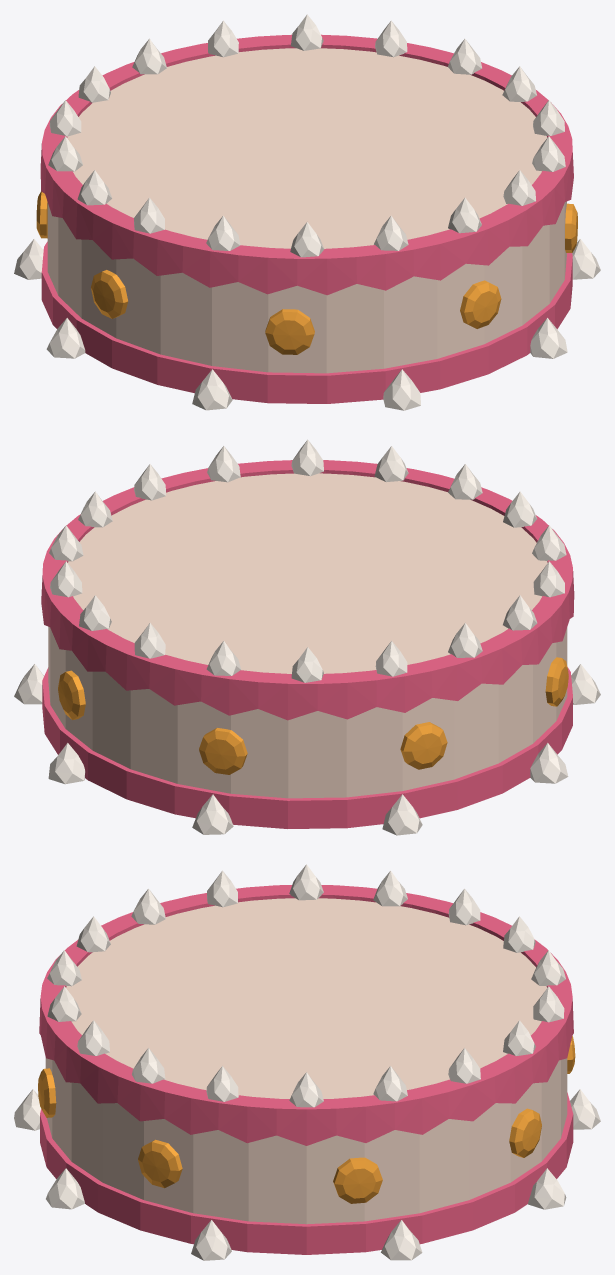
The model's file is CV3_CakeBase.fbx.
The picture shows the model from 3 angles, top to bottom: view 1: azimuth 30°, elevation 25°; view 2: azimuth 150°, elevation 25°; view 3: azimuth 270°, elevation 25°; orthographic projection.
Parts seen in each view (by area): view 1: CV3_CakeBase_Body, CV3_CakeBase_Band, CV3_CakeBase_Frosting, CV3_CakeBase_Cookies; view 2: CV3_CakeBase_Body, CV3_CakeBase_Band, CV3_CakeBase_Frosting, CV3_CakeBase_Cookies; view 3: CV3_CakeBase_Body, CV3_CakeBase_Band, CV3_CakeBase_Frosting, CV3_CakeBase_Cookies.
Part boxes in pixels (bbox=[...]): CV3_CakeBase_Body: bbox=[47, 48, 566, 373]; CV3_CakeBase_Band: bbox=[40, 34, 573, 403]; CV3_CakeBase_Frosting: bbox=[14, 14, 600, 410]; CV3_CakeBase_Cookies: bbox=[36, 191, 577, 354]; CV3_CakeBase_Body: bbox=[48, 473, 567, 798]; CV3_CakeBase_Band: bbox=[41, 460, 574, 828]; CV3_CakeBase_Frosting: bbox=[14, 439, 600, 835]; CV3_CakeBase_Cookies: bbox=[58, 657, 568, 774]; CV3_CakeBase_Body: bbox=[45, 898, 567, 1224]; CV3_CakeBase_Band: bbox=[39, 885, 573, 1254]; CV3_CakeBase_Frosting: bbox=[14, 864, 600, 1260]; CV3_CakeBase_Cookies: bbox=[38, 1036, 575, 1203].
Size of the model in its own units: 44.29 by 14.75 by 45.01.
